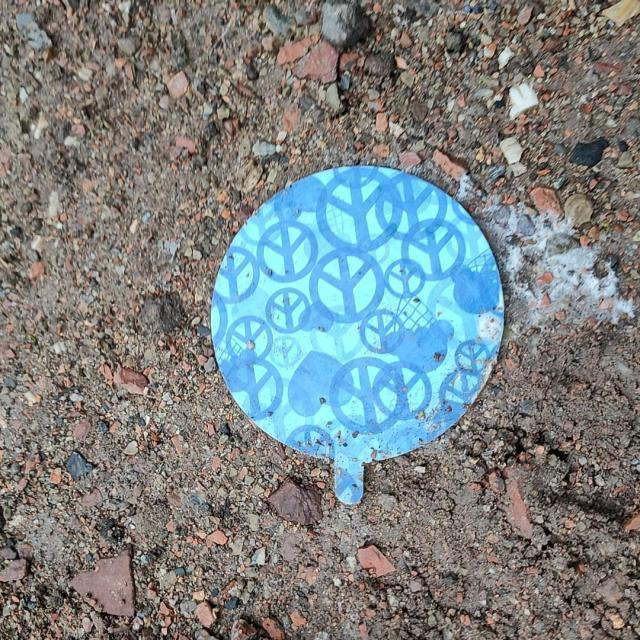Paper: (206, 159, 510, 512)
